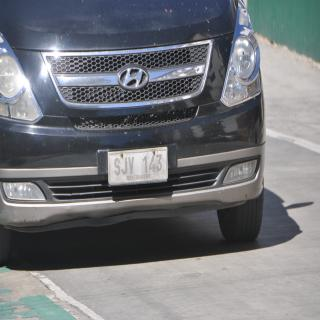license: (109, 148, 169, 186)
